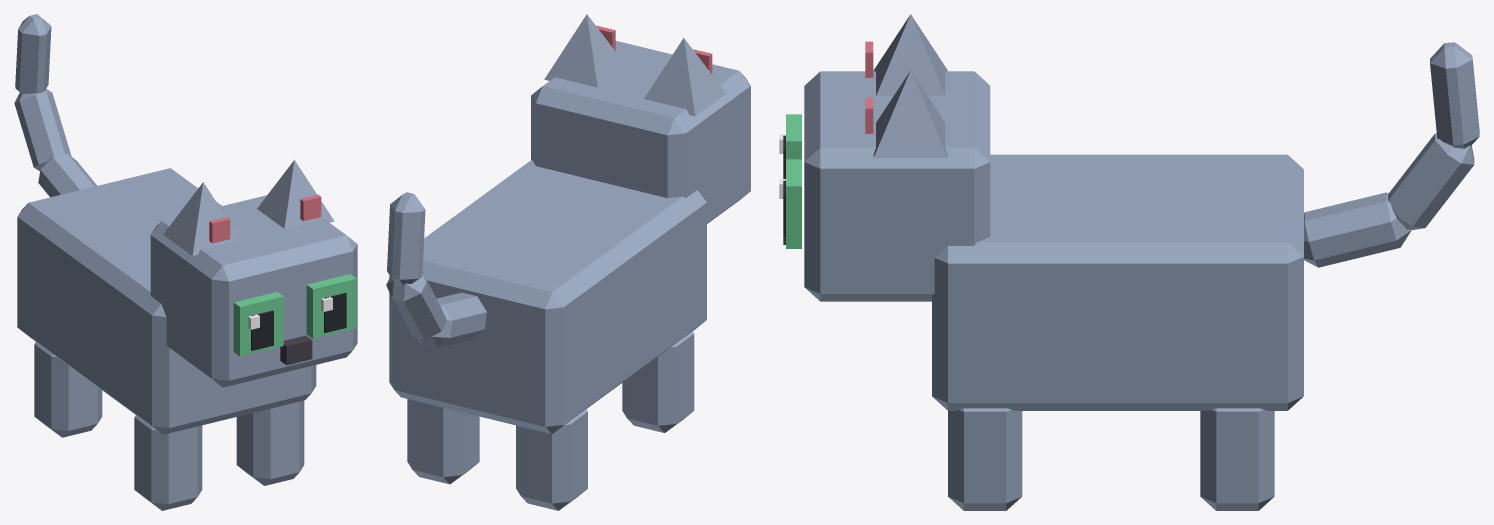
The model's file is CatCafe_Cat_Blue.fbx.
3 views of the same model, side by side, from view 1: azimuth 30°, elevation 25°; view 2: azimuth 150°, elevation 25°; view 3: azimuth 270°, elevation 25° (orthographic). The views are drawn at different scales.
Parts seen in each view (by area): view 1: CatCafe_Cat_Blue_Body, CatCafe_Cat_Blue_Head, CatCafe_Cat_Blue_Tail; view 2: CatCafe_Cat_Blue_Body, CatCafe_Cat_Blue_Head, CatCafe_Cat_Blue_Tail; view 3: CatCafe_Cat_Blue_Body, CatCafe_Cat_Blue_Head, CatCafe_Cat_Blue_Tail.
Part boxes in pixels (bbox=[...]): CatCafe_Cat_Blue_Body: bbox=[17, 168, 316, 510]; CatCafe_Cat_Blue_Head: bbox=[150, 160, 357, 387]; CatCafe_Cat_Blue_Tail: bbox=[14, 14, 97, 197]; CatCafe_Cat_Blue_Body: bbox=[389, 160, 706, 510]; CatCafe_Cat_Blue_Head: bbox=[531, 14, 750, 223]; CatCafe_Cat_Blue_Tail: bbox=[386, 192, 486, 347]; CatCafe_Cat_Blue_Body: bbox=[932, 154, 1303, 510]; CatCafe_Cat_Blue_Head: bbox=[779, 14, 990, 301]; CatCafe_Cat_Blue_Tail: bbox=[1304, 42, 1479, 267].
Size of the model in its own units: 0.9 by 1.78 by 2.64.
1 material, 1 textured.
